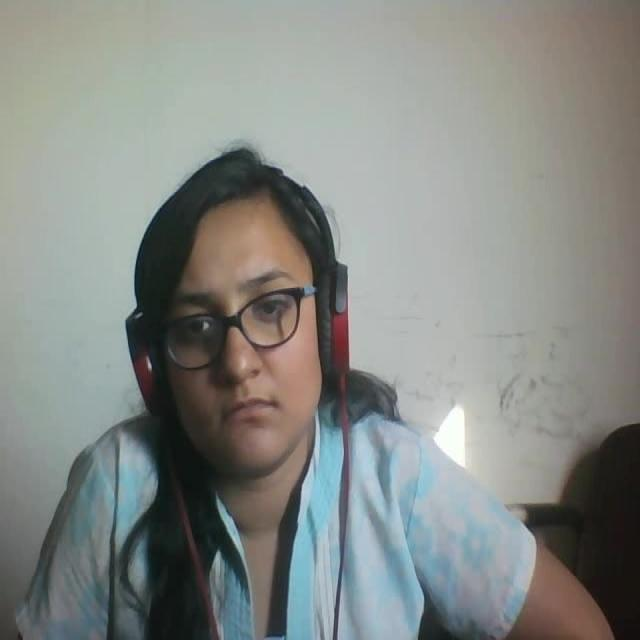Engaged: (103, 146, 384, 464)
